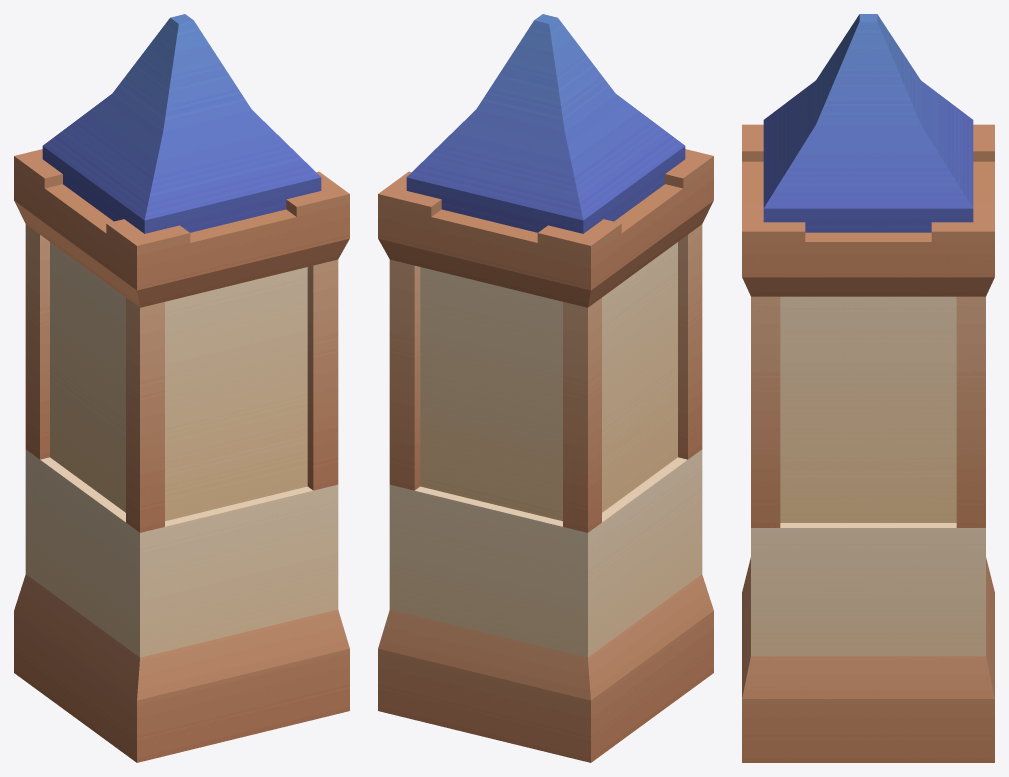
File: wall_tower.glb
3 renders of one model, left to right at view 1: azimuth 30°, elevation 25°; view 2: azimuth 150°, elevation 25°; view 3: azimuth 270°, elevation 25°, orthographic. The views are drawn at different scales.
Visible parts, largest first — view 1: wall_tower; view 2: wall_tower; view 3: wall_tower.
Boxes of the visible parts, box(x1,y1,x2,y2) form: wall_tower: box(14, 14, 349, 762); wall_tower: box(378, 14, 713, 762); wall_tower: box(742, 14, 994, 762).
Bounding box in the file's own units: 6 × 18.12 × 6.
3 materials, 3 textured.
